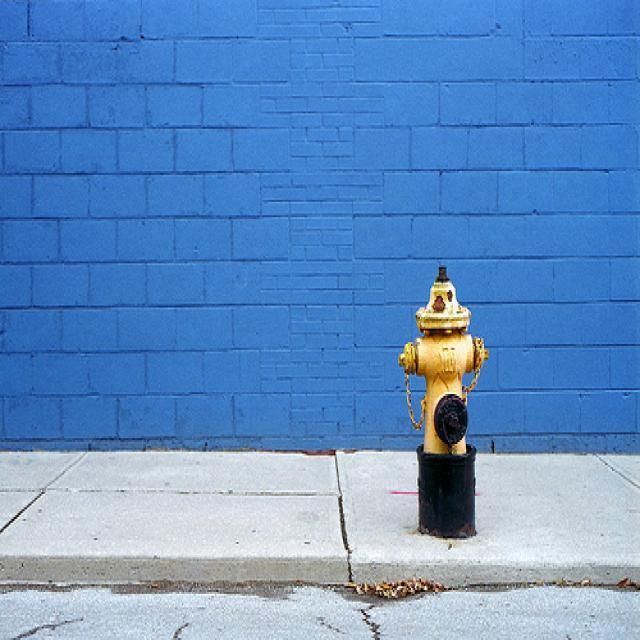fire_hydrant: (397, 265, 489, 540)
